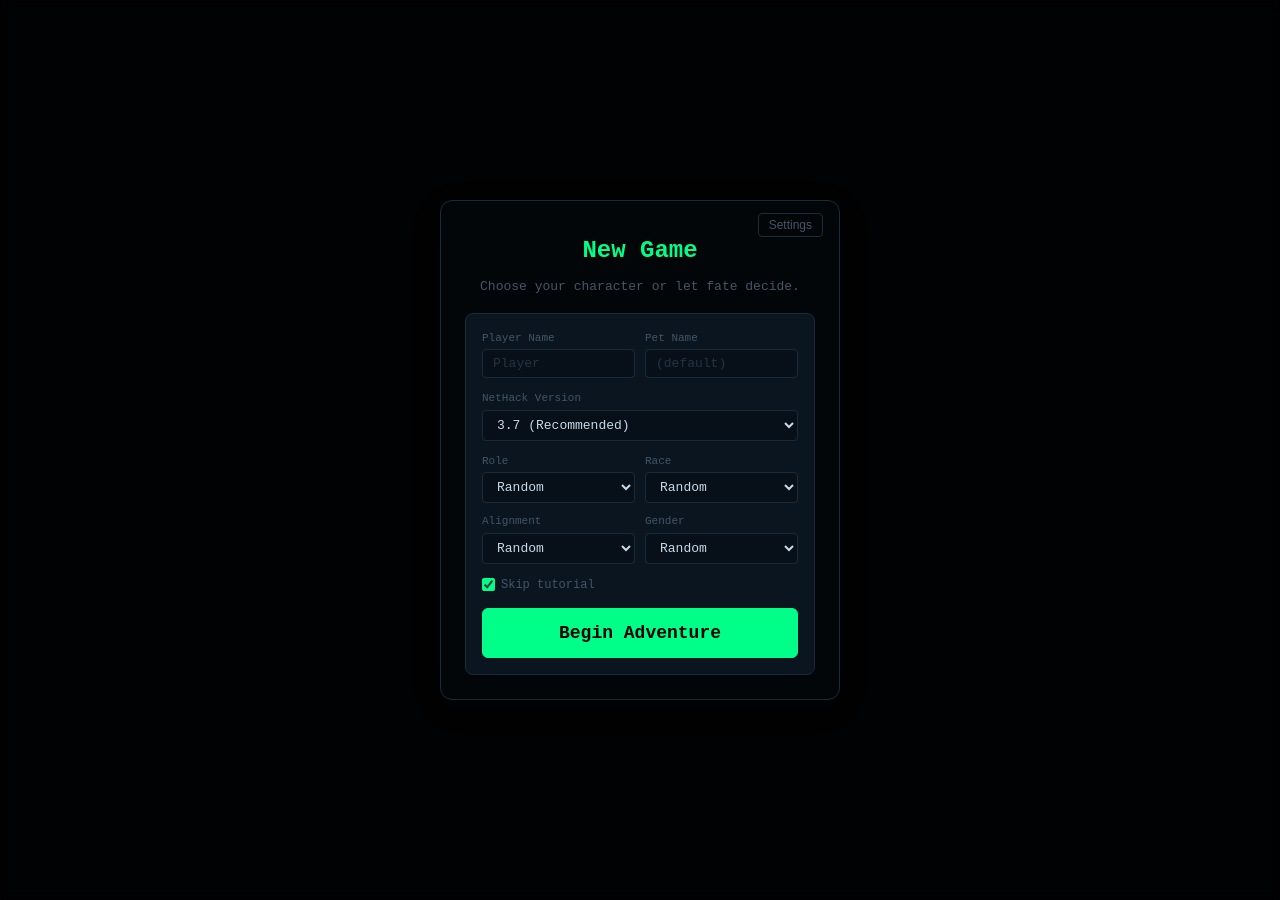
Scenario: CharacterCreation component › shows LLM warning when clicking Begin Adventure without API key
Check: the heading "New Game" is shown, box top-left (582, 237), bottom-right (698, 264)
Click the button "Begin Adventure".
click(640, 633)  # box top-left (482, 608), bottom-right (798, 658)
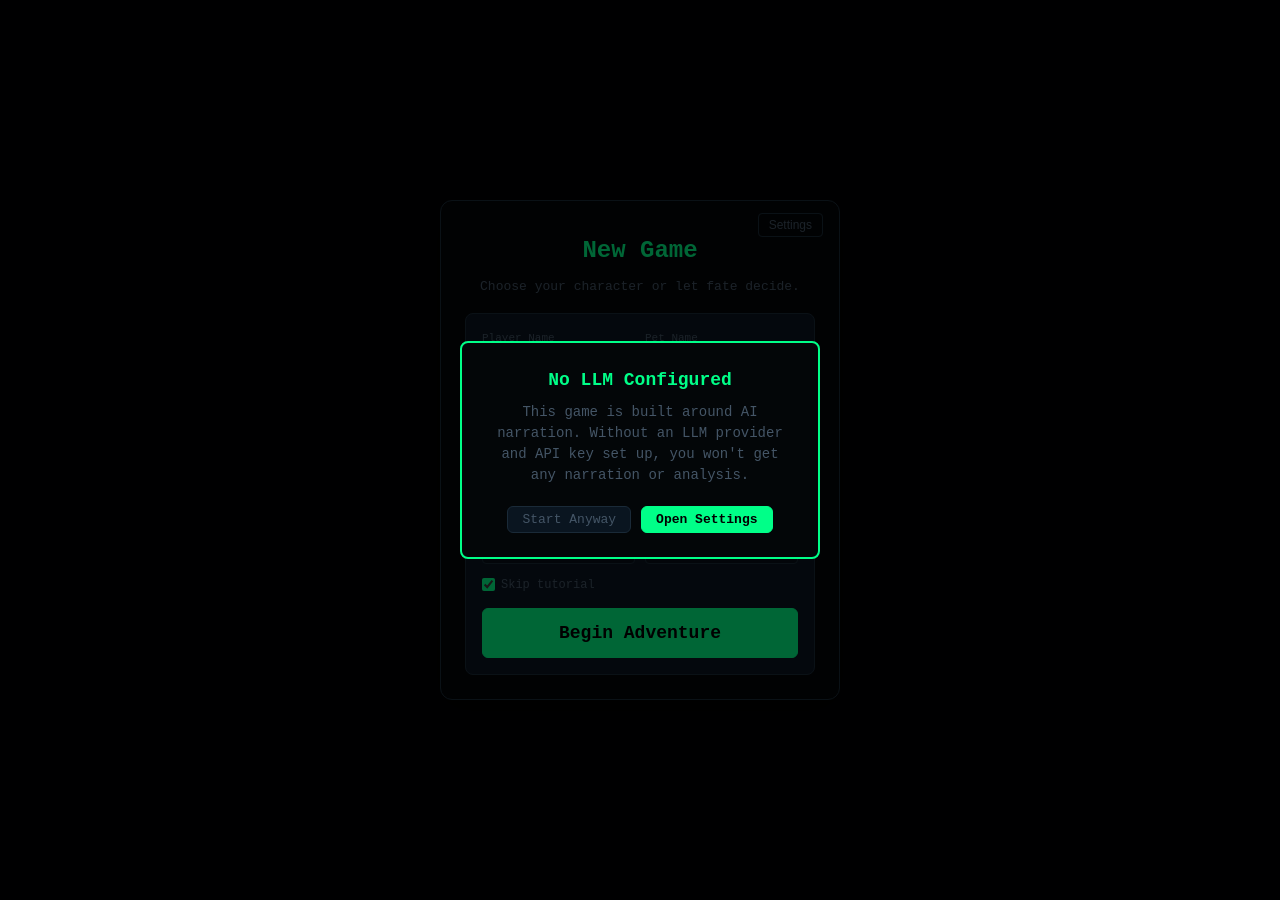
Check: the heading "No LLM Configured" is shown, box top-left (548, 370), bottom-right (732, 390)
Check: the button "Start Anyway" is shown, box top-left (508, 506), bottom-right (631, 533)
Check: the button "Open Settings" is shown, box top-left (641, 506), bottom-right (772, 533)
